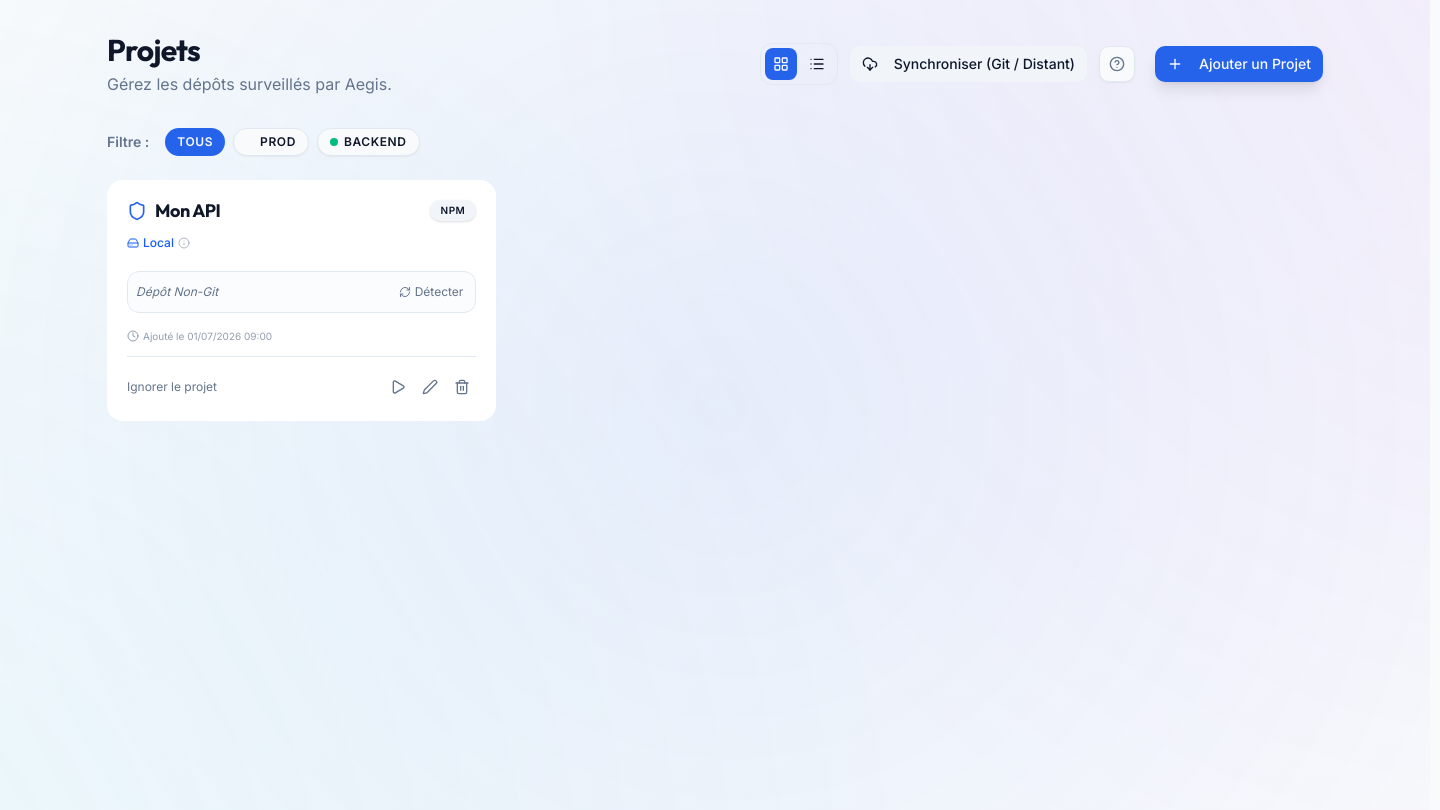
it: Projects › supprimer demande confirmation avant d'appeler l'API
Expected: the heading "Mon API" is shown, [155, 200, 220, 222]
Click the button titled "supprimer" at (462, 386), box [448, 372, 476, 400]
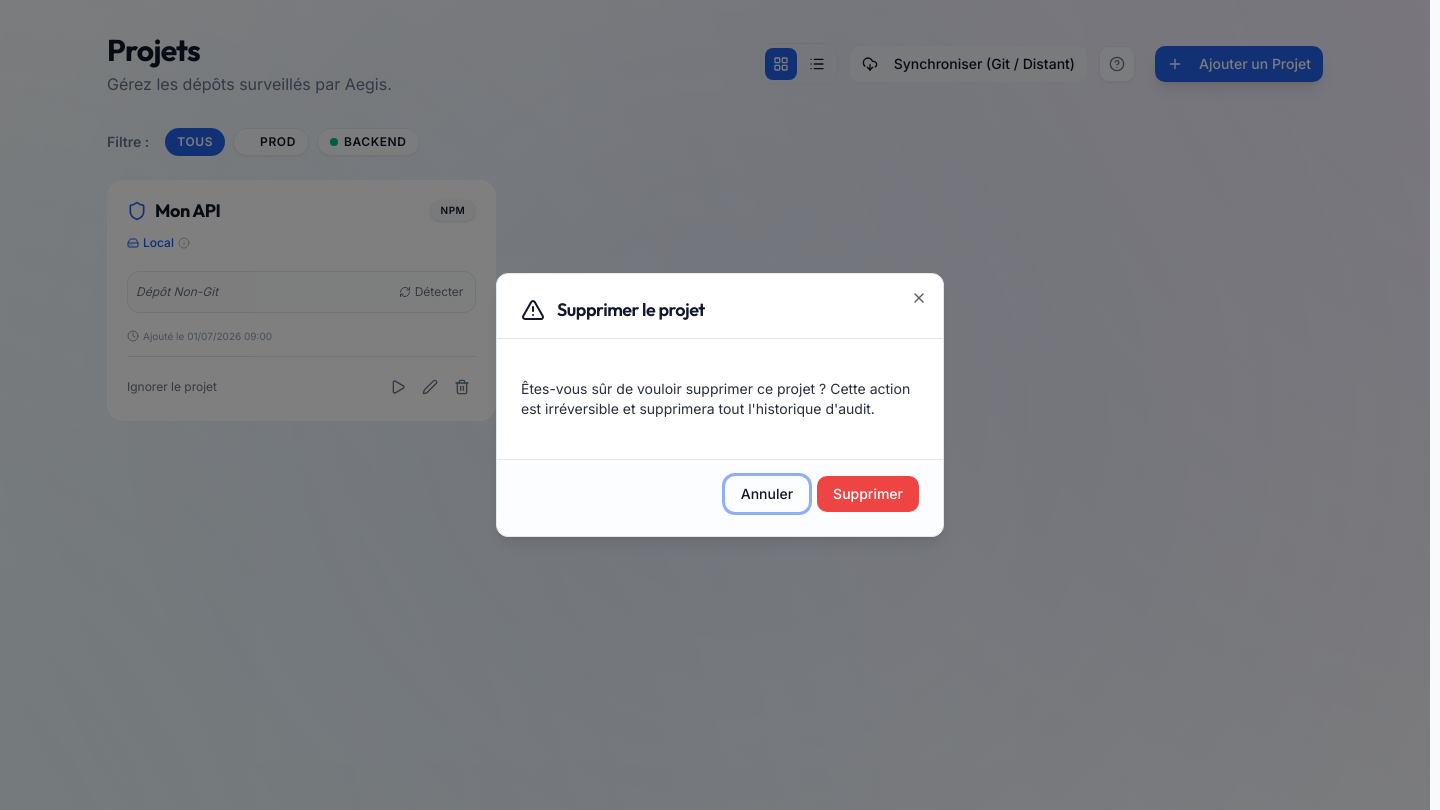
Result: the heading "Supprimer le projet" is shown at [521, 298, 705, 322]
